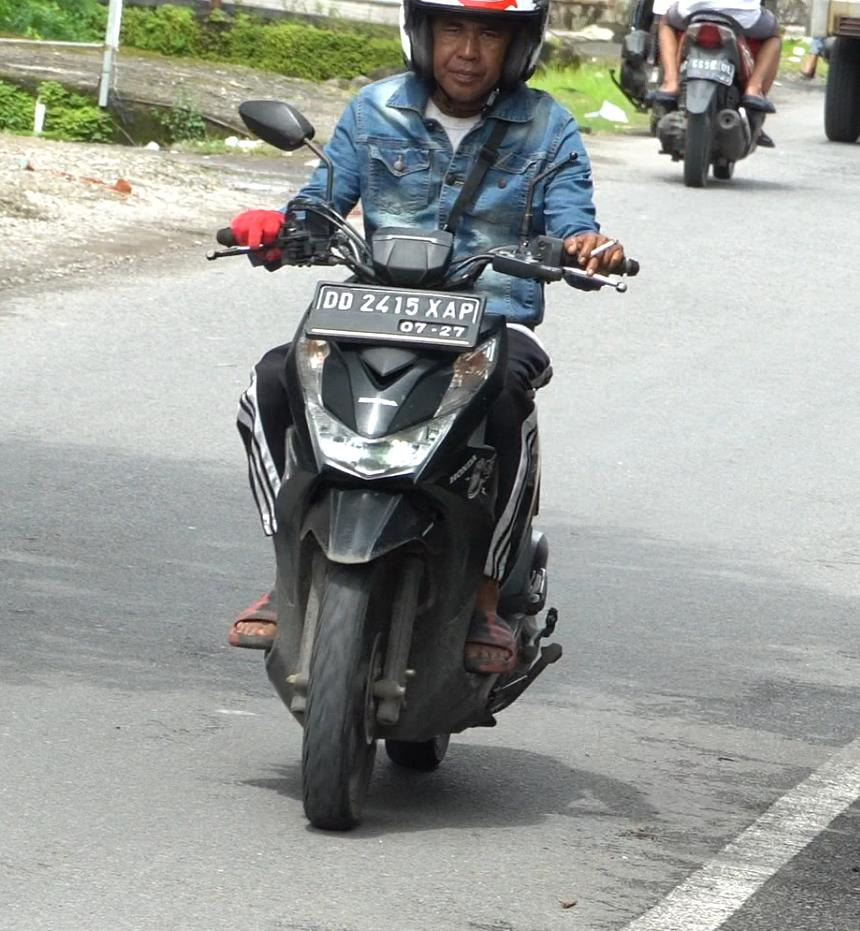number-plate: (297, 278, 493, 353)
